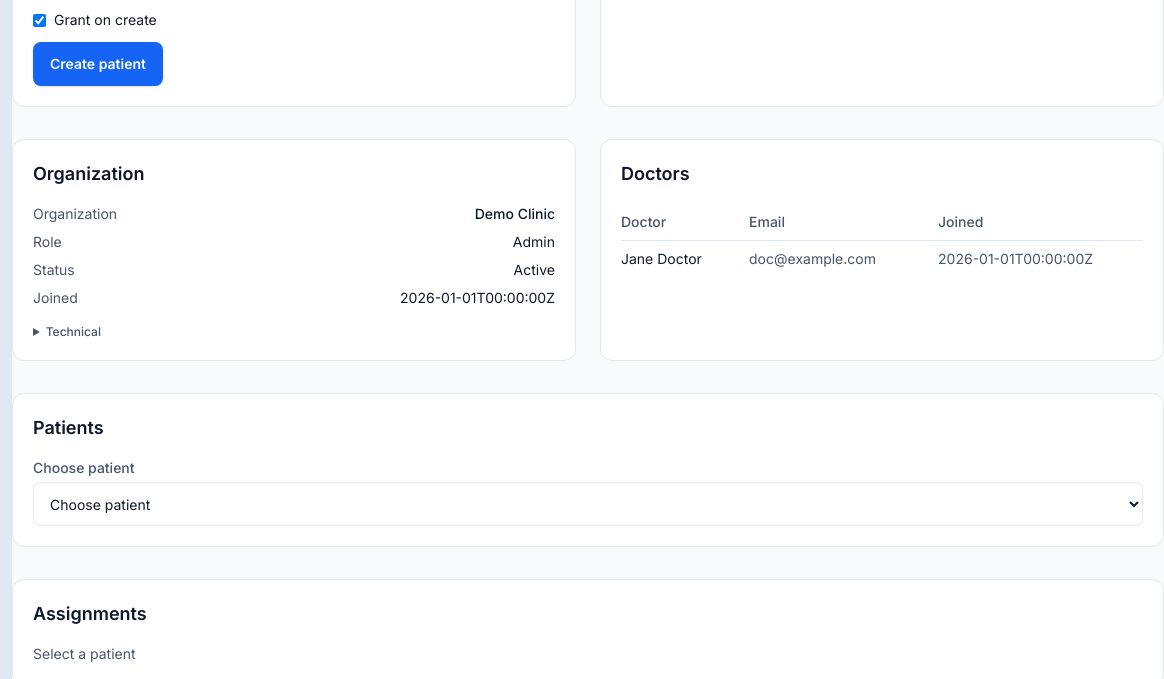
Test case: ManagementPageContent › shows localized duplicate assignment message on 409
(page scrolled)
Select "Ada Lovelace (1990-01-01)" in the dropdown labelled "Choose patient" at coordinates (588, 504), box [33, 482, 1143, 526]
(page scrolled)
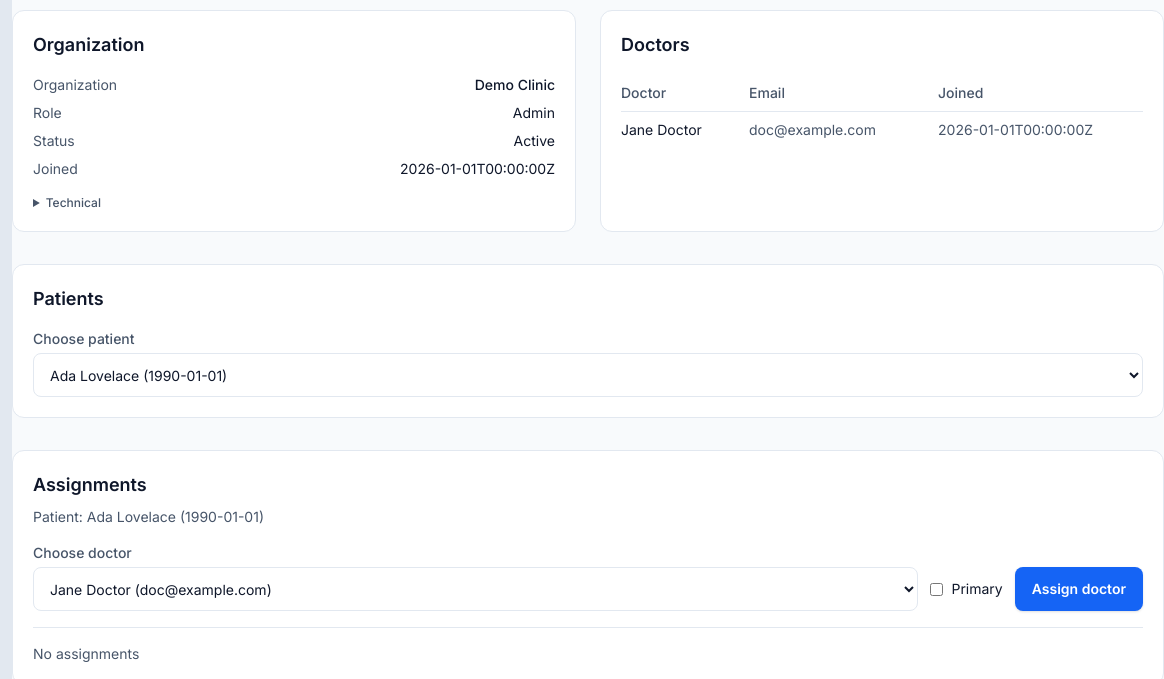
Check: the button "Assign doctor" is enabled, box [1015, 567, 1143, 611]
Select "Jane Doctor (doc@example.com)" in the dropdown labelled "Choose doctor" at coordinates (476, 589), box [33, 567, 918, 611]
Click the button "Assign doctor" at coordinates (1079, 589), box [1015, 567, 1143, 611]
(page scrolled)
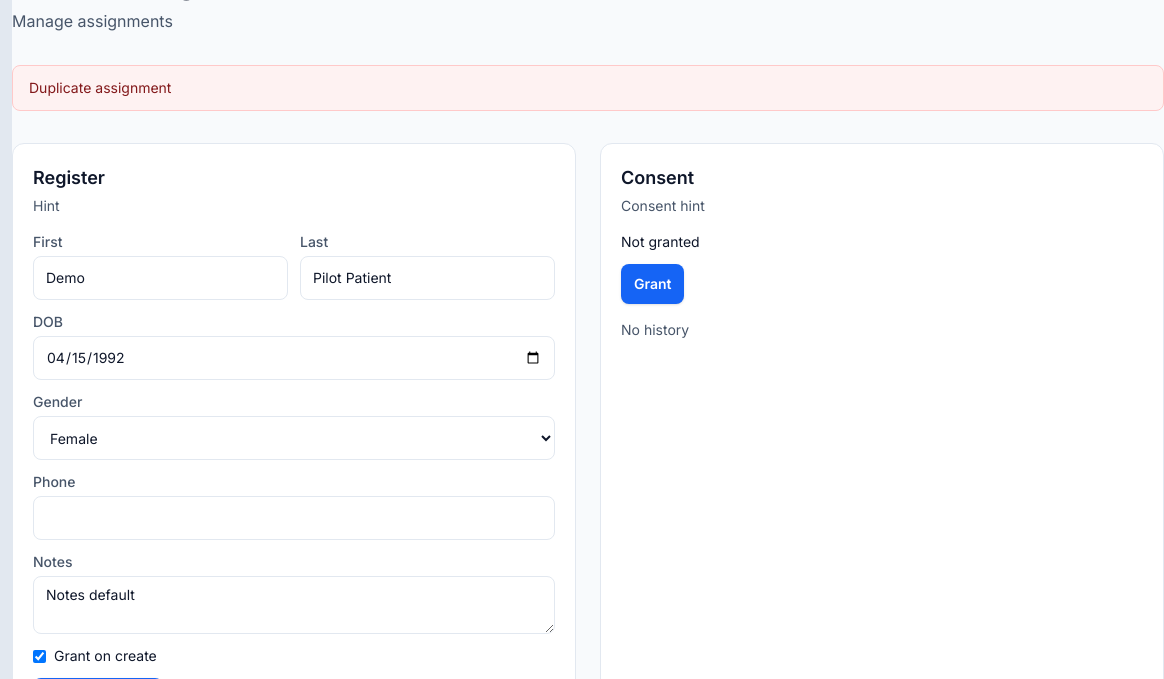
Check: the text "Duplicate assignment" is shown, box [12, 65, 1163, 111]
